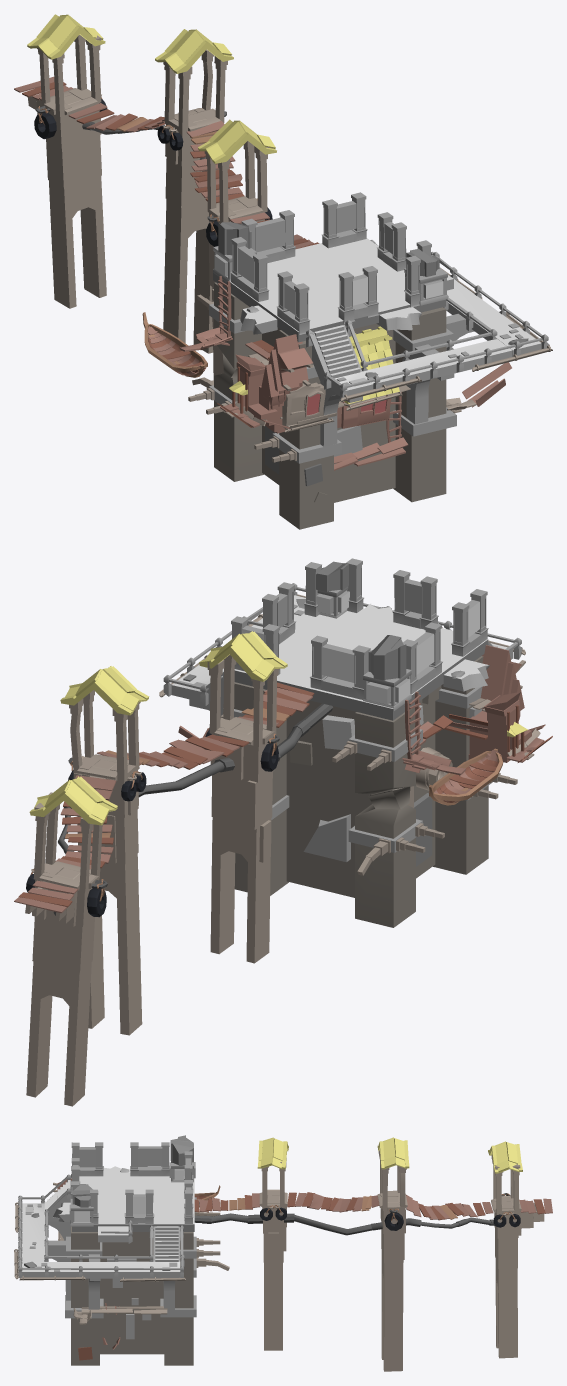
The picture shows the model from 3 angles, top to bottom: view 1: azimuth 30°, elevation 25°; view 2: azimuth 150°, elevation 25°; view 3: azimuth 270°, elevation 25°; orthographic projection. The views are drawn at different scales.
Parts seen in each view (by area): view 1: segment_1_1; view 2: segment_1_1; view 3: segment_1_1.
Part boxes in pixels (x1,y1,x2,y2): segment_1_1: [14, 14, 552, 529]; segment_1_1: [14, 558, 552, 1106]; segment_1_1: [14, 1135, 552, 1371].
Bounding box in the file's own units: 42.51 × 41.53 × 88.3.
